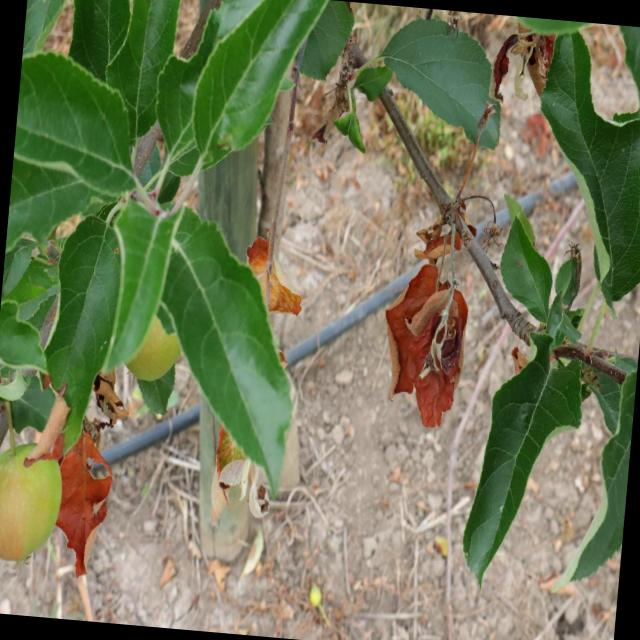-FireBlight-: (374, 17, 551, 432), (17, 367, 131, 572), (244, 245, 294, 323), (314, 65, 353, 137)
